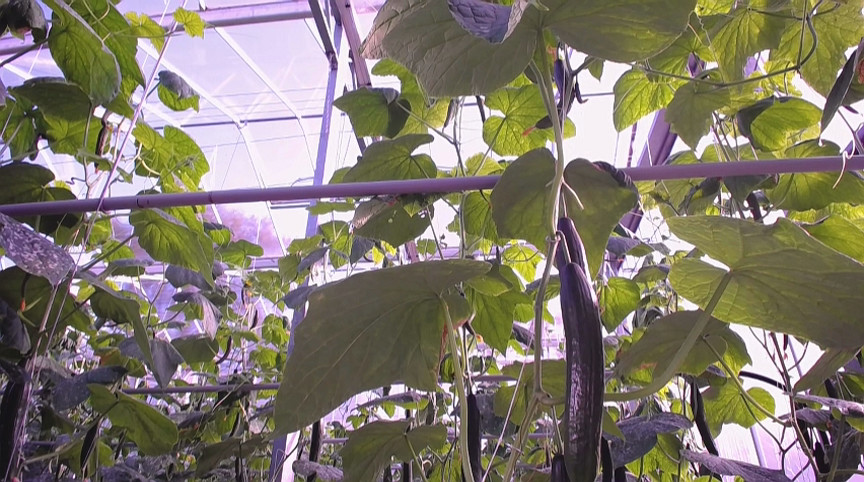cucumber: (556, 262, 605, 482), (2, 352, 38, 482), (535, 58, 573, 130), (464, 394, 484, 482)
